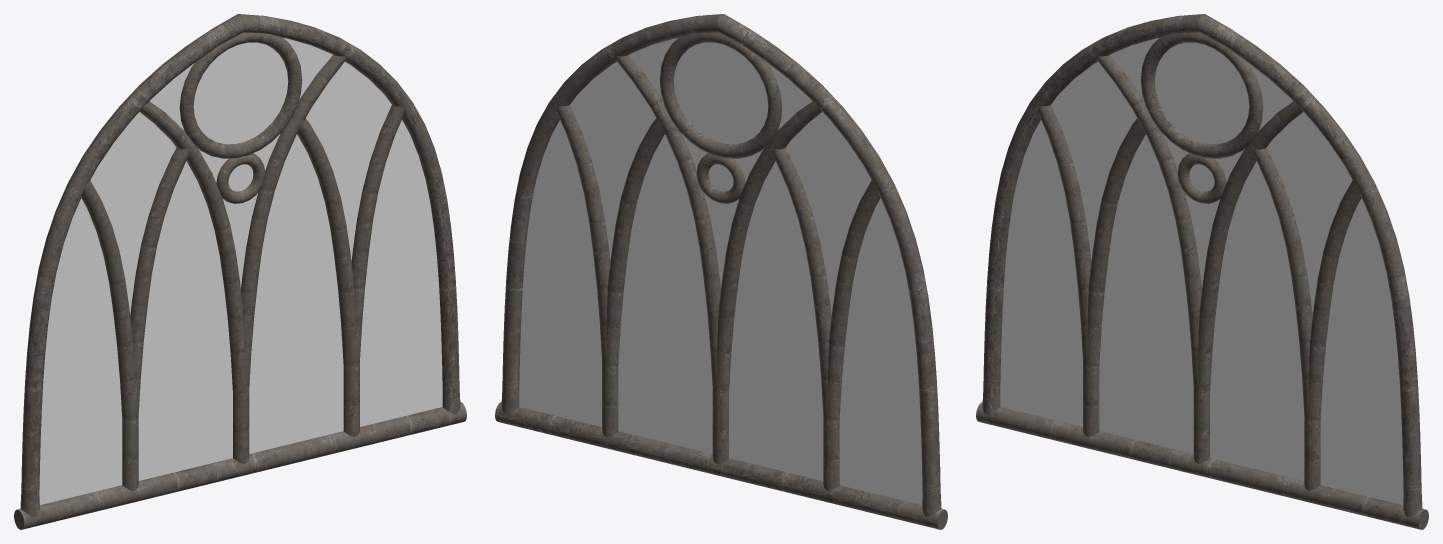
File: StoneWindow.fbx
The picture shows the model from 3 angles, left to right: view 1: azimuth 30°, elevation 25°; view 2: azimuth 150°, elevation 25°; view 3: azimuth 330°, elevation 25°; orthographic projection.
Visible parts, largest first — view 1: Trim_StoneWindow; view 2: Trim_StoneWindow; view 3: Trim_StoneWindow.
Boxes of the visible parts, x1,y1,x2,y2 form: Trim_StoneWindow: (14,14,466,529); Trim_StoneWindow: (495,14,947,529); Trim_StoneWindow: (976,14,1428,529).
Size of the model in its own units: 1600 by 1591 by 65.55.
